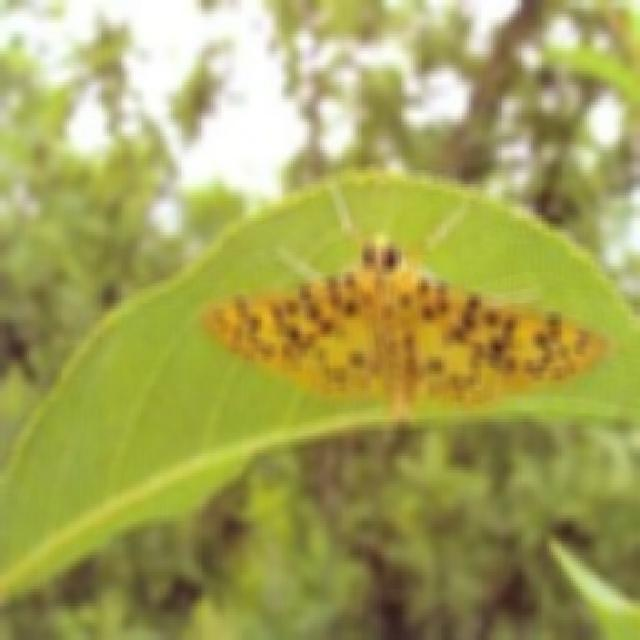peach borer: (204, 221, 620, 422)
